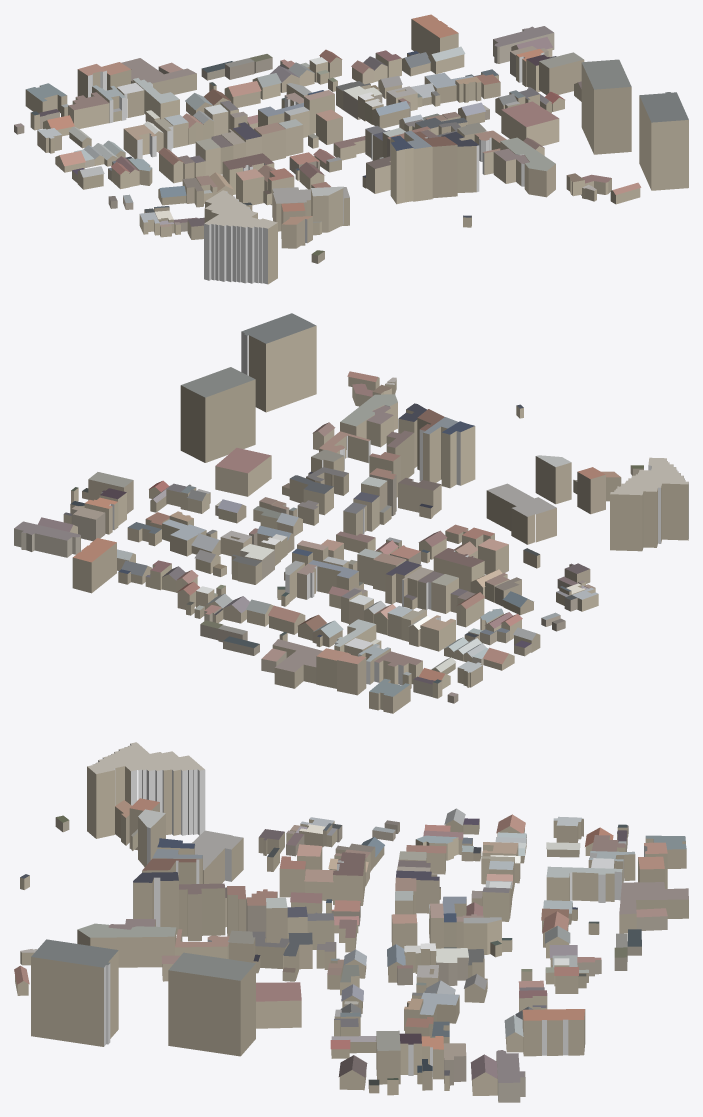
The picture shows the model from 3 angles, top to bottom: view 1: azimuth 30°, elevation 25°; view 2: azimuth 150°, elevation 25°; view 3: azimuth 270°, elevation 25°; orthographic projection. The views are drawn at different scales.
Parts seen in each view (by area): view 1: tuile; view 2: tuile; view 3: tuile.
Part boxes in pixels (x1=…): tuile: x1=14, y1=14, x2=688, y2=284; tuile: x1=14, y1=313, x2=688, y2=713; tuile: x1=14, y1=742, x2=688, y2=1102.
Bounding box in the file's own units: 262 × 48.99 × 260.
